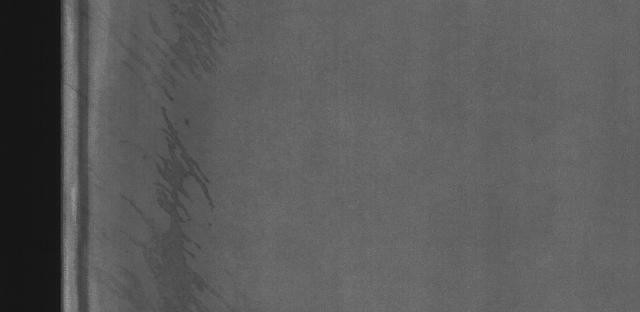water_spot: (109, 1, 245, 304)
